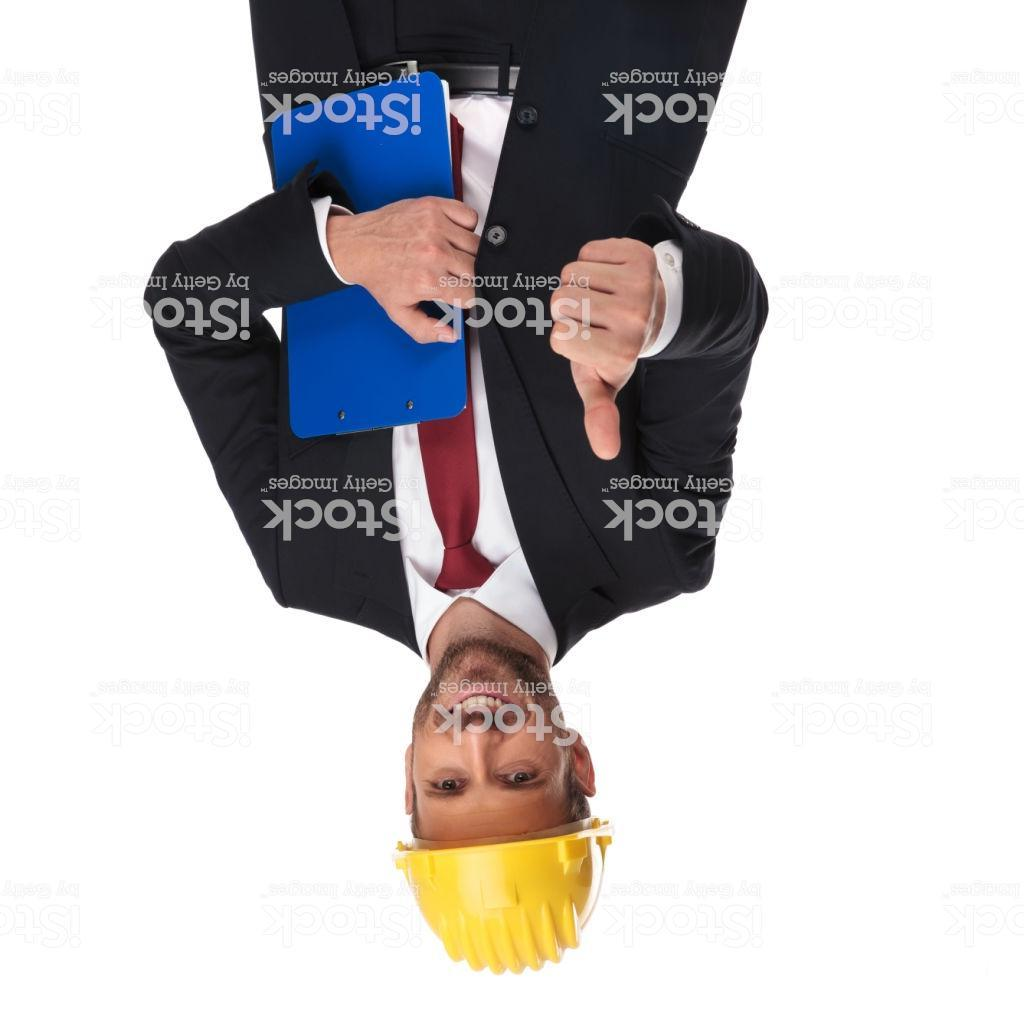thumbsdown: (550, 234, 662, 463)
